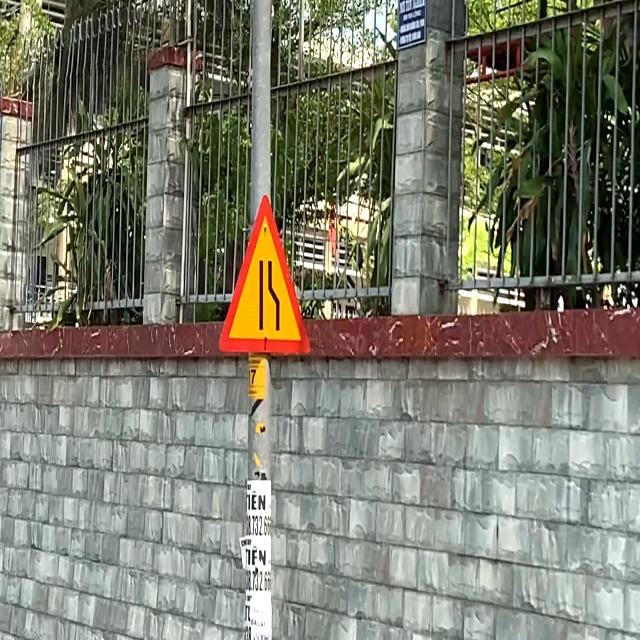W.203c: (212, 186, 316, 370)
